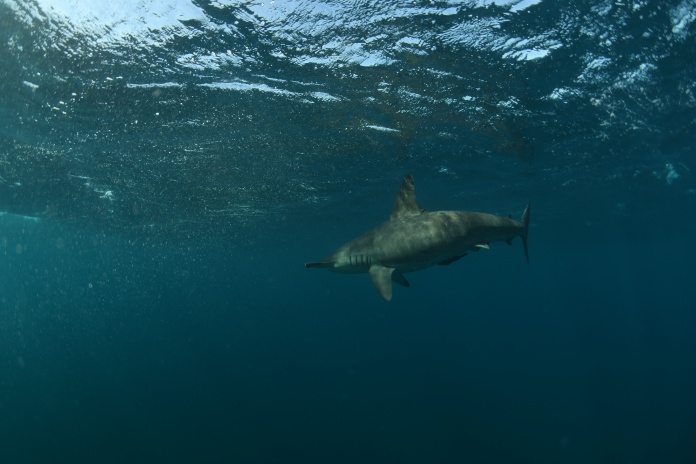Hammer: (279, 156, 554, 308)
